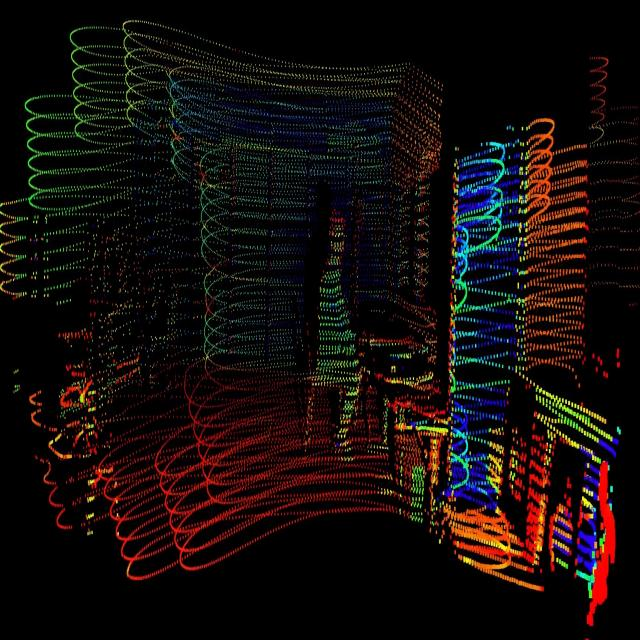human: (307, 202, 368, 473)
